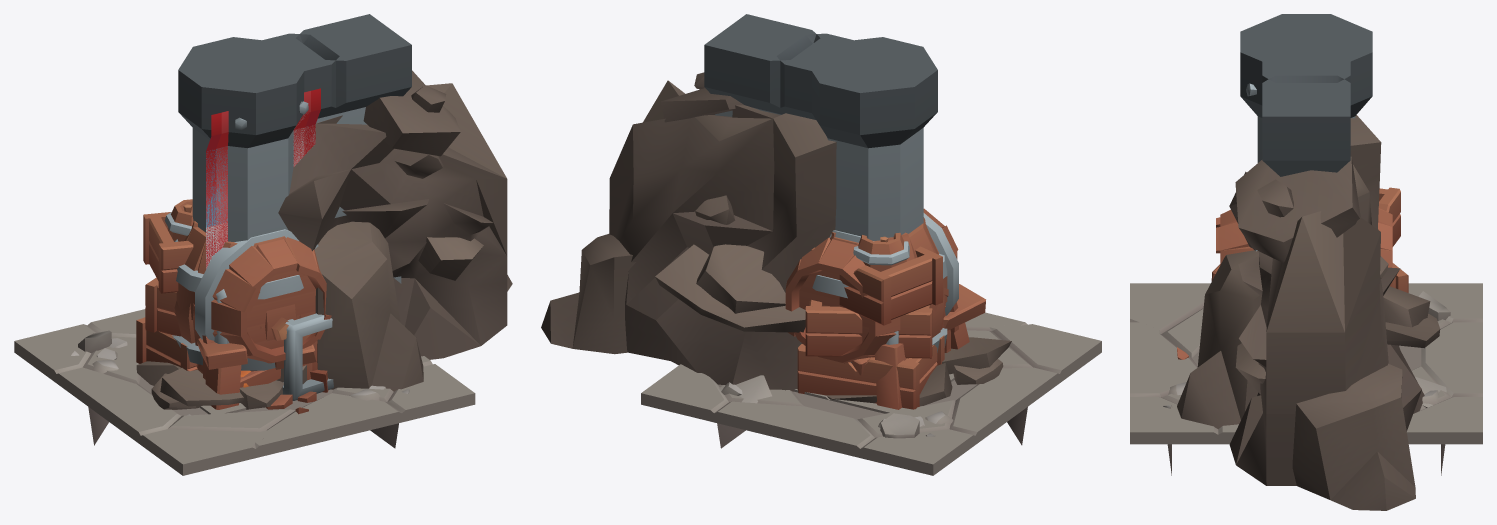
The model's file is dungeon.glb.
3 renders of one model, left to right at view 1: azimuth 30°, elevation 25°; view 2: azimuth 150°, elevation 25°; view 3: azimuth 270°, elevation 25°, orthographic. The views are drawn at different scales.
Parts seen in each view (by area): view 1: rubble_half, floor_tile_large_rocks, pillar, wall_half, keg, crates_stacked, banner_red, barrel_large, table_medium_broken, floor_tile_big_grate_open, floor_dirt_large, floor_dirt_large_rocky (+1 smaller); view 2: rubble_half, floor_tile_large_rocks, pillar, crates_stacked, wall_half, keg, floor_tile_big_grate_open, table_medium_broken, barrel_large, floor_dirt_large_rocky; view 3: rubble_half, floor_tile_large_rocks, wall_half, pillar, keg, floor_dirt_large_rocky, floor_dirt_large, crates_stacked, floor_tile_big_grate_open.
Boxes of the visible parts, left/top/right/bottom form: rubble_half: left=278, top=70, right=512, bottom=391; floor_tile_large_rocks: left=14, top=309, right=474, bottom=475; pillar: left=178, top=37, right=309, bottom=241; wall_half: left=224, top=14, right=411, bottom=283; keg: left=174, top=229, right=331, bottom=363; crates_stacked: left=136, top=199, right=333, bottom=400; banner_red: left=206, top=88, right=320, bottom=268; barrel_large: left=172, top=220, right=303, bottom=371; table_medium_broken: left=196, top=338, right=328, bottom=414; floor_tile_big_grate_open: left=14, top=341, right=475, bottom=475; floor_dirt_large: left=92, top=338, right=475, bottom=475; floor_dirt_large_rocky: left=71, top=330, right=436, bottom=475; rubble_half: left=541, top=72, right=836, bottom=391; floor_tile_large_rocks: left=641, top=312, right=1101, bottom=475; pillar: left=806, top=37, right=937, bottom=240; crates_stacked: left=797, top=232, right=944, bottom=409; wall_half: left=704, top=14, right=891, bottom=119; keg: left=785, top=208, right=958, bottom=363; floor_tile_big_grate_open: left=641, top=322, right=1101, bottom=475; table_medium_broken: left=788, top=284, right=985, bottom=409; barrel_large: left=812, top=217, right=947, bottom=362; floor_dirt_large_rocky: left=719, top=375, right=934, bottom=438; rubble_half: left=1177, top=115, right=1440, bottom=510; floor_tile_large_rocks: left=1130, top=283, right=1482, bottom=434; wall_half: left=1262, top=42, right=1350, bottom=176; pillar: left=1240, top=14, right=1372, bottom=162; keg: left=1216, top=208, right=1392, bottom=286; floor_dirt_large_rocky: left=1130, top=291, right=1482, bottom=444; floor_dirt_large: left=1130, top=390, right=1482, bottom=441; crates_stacked: left=1378, top=187, right=1408, bottom=292; floor_tile_big_grate_open: left=1130, top=322, right=1482, bottom=475.
Bounding box in the file's own units: 6 × 5 × 4.
1 material, 1 textured.
